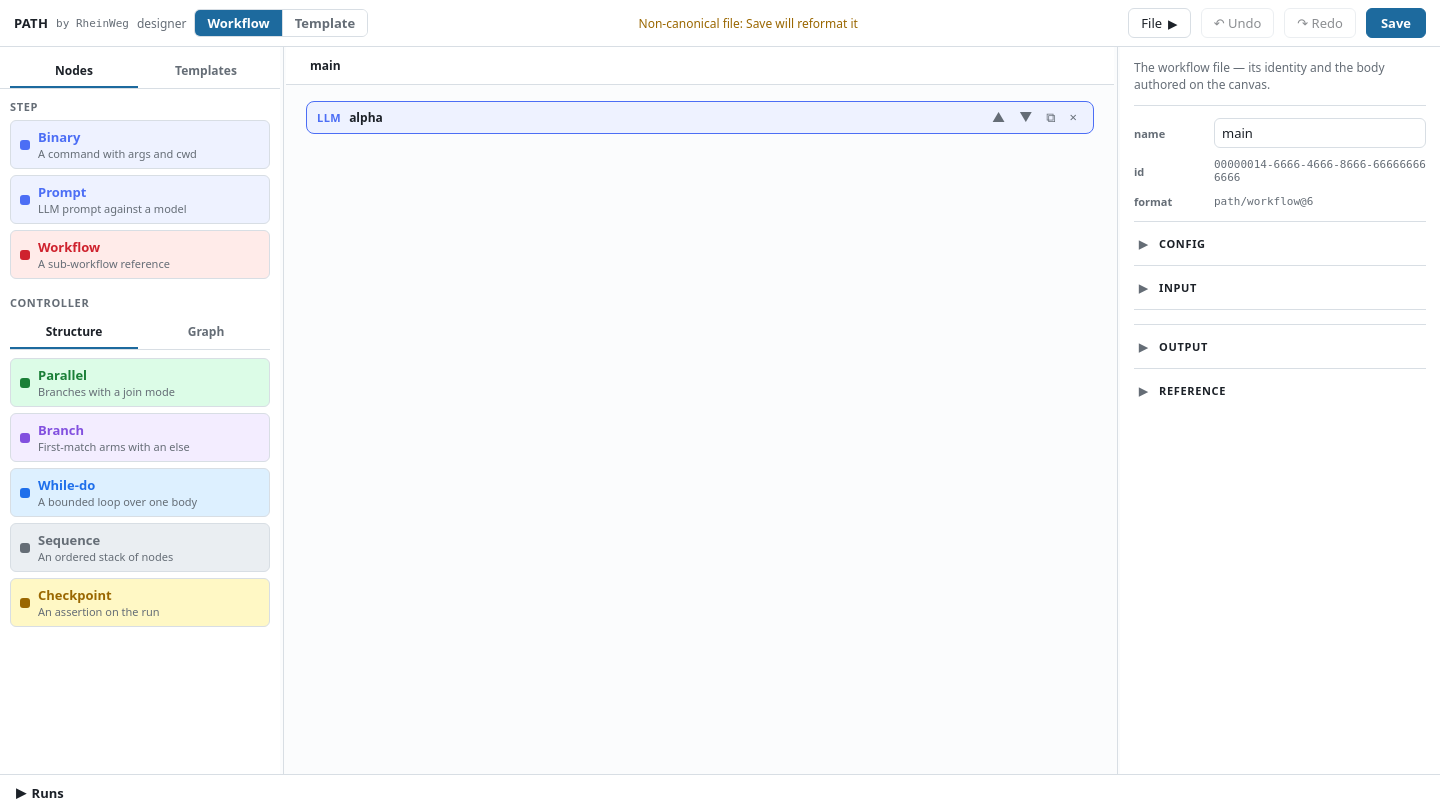
Test: File menu › holds New, Open…, Save as…, Download, Upload… and Delete, and closes on Escape back to File
The image size is (1440, 810).
Check: the text "alpha" is shown, box [349,109,383,126]
Click the button "File ▸": {"x": 1159, "y": 23} [1128,8,1191,38]
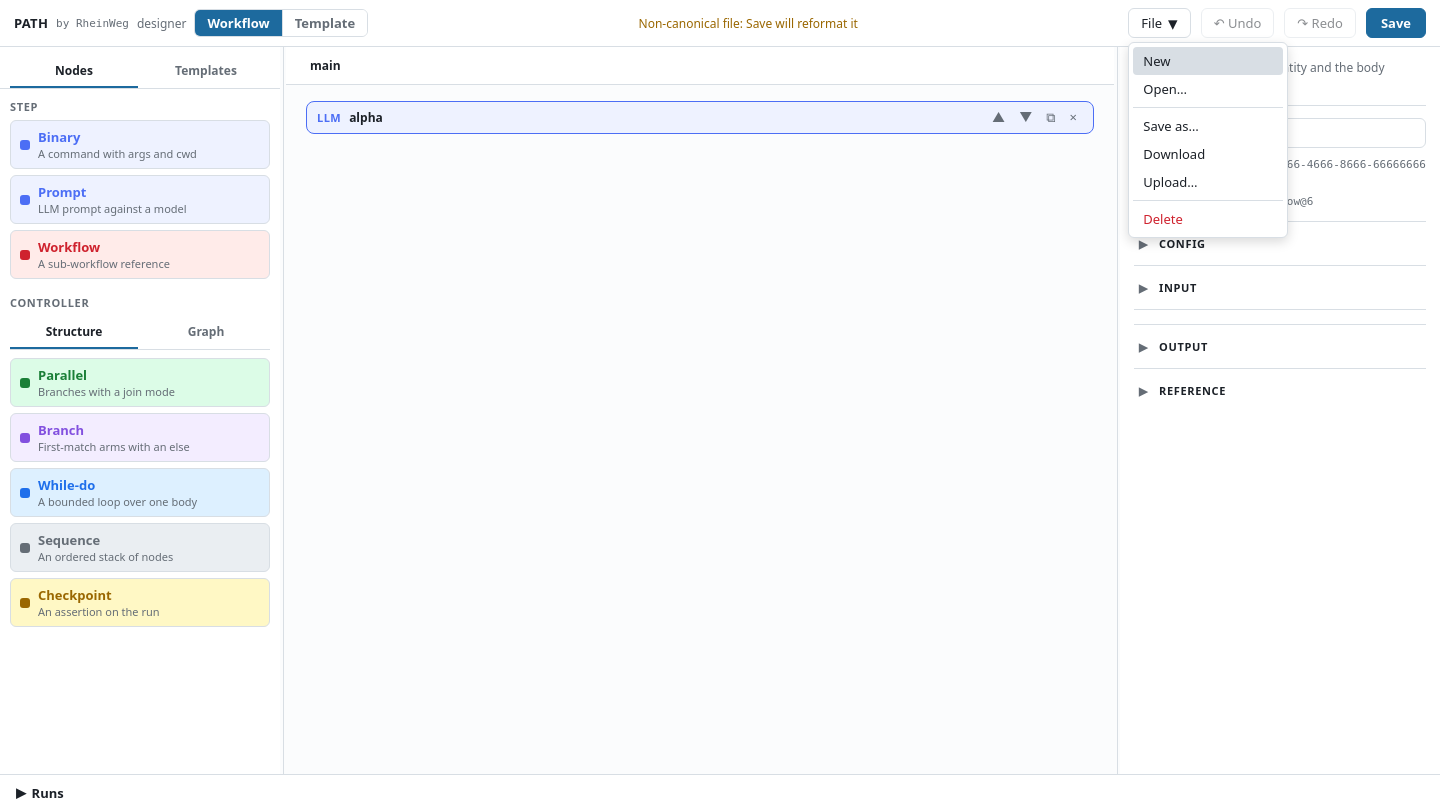
Check: the menu items read "New", "Open…", "Save as…", "Download", "Upload…", "Delete", in this order, box [1133,47,1283,75]; [1133,75,1283,103]; [1133,112,1283,140]; [1133,140,1283,168]; [1133,168,1283,196]; [1133,205,1283,233]
Press ArrowDown in the menu named "File", box [1128,42,1288,238]
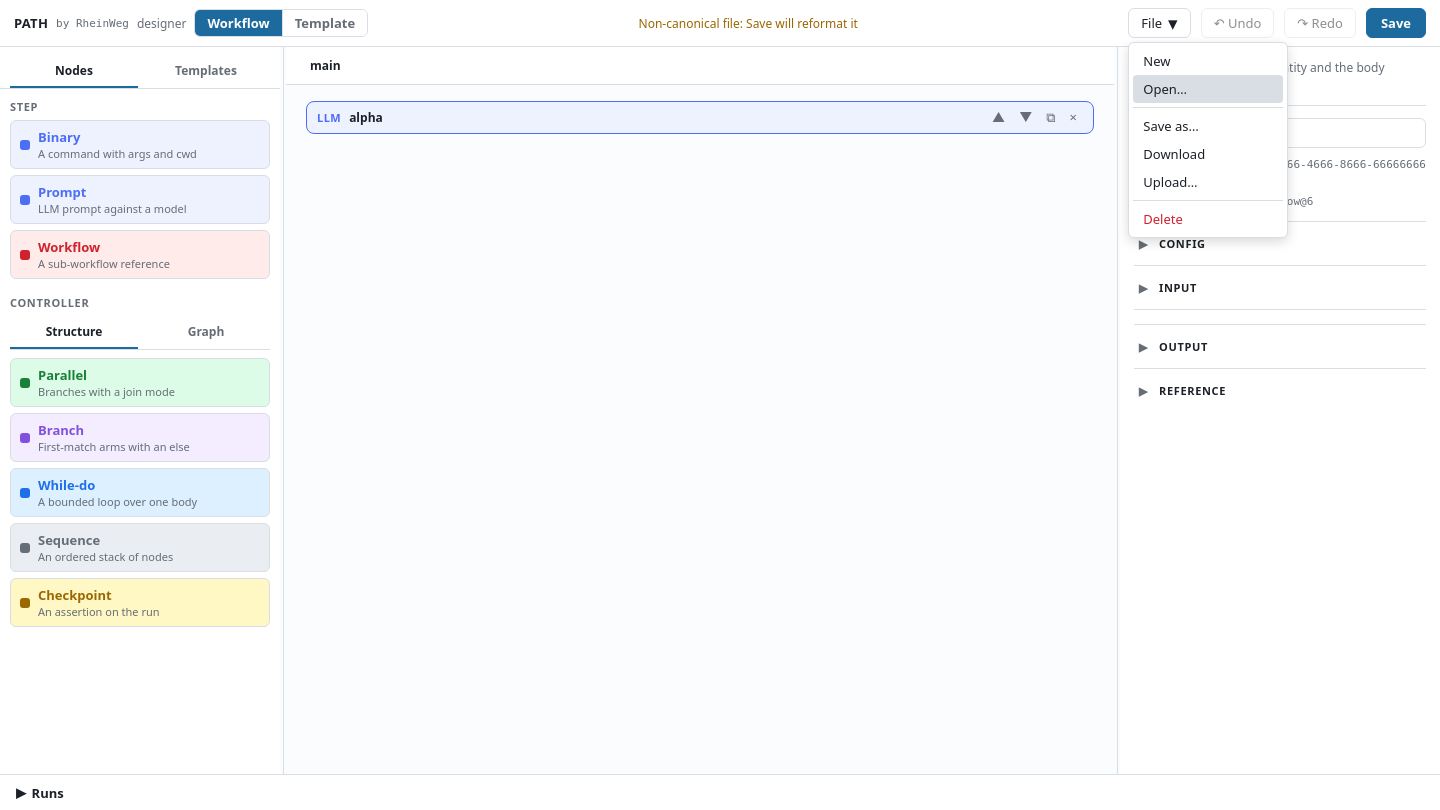
Press ArrowUp in the menu named "File", box [1128,42,1288,238]
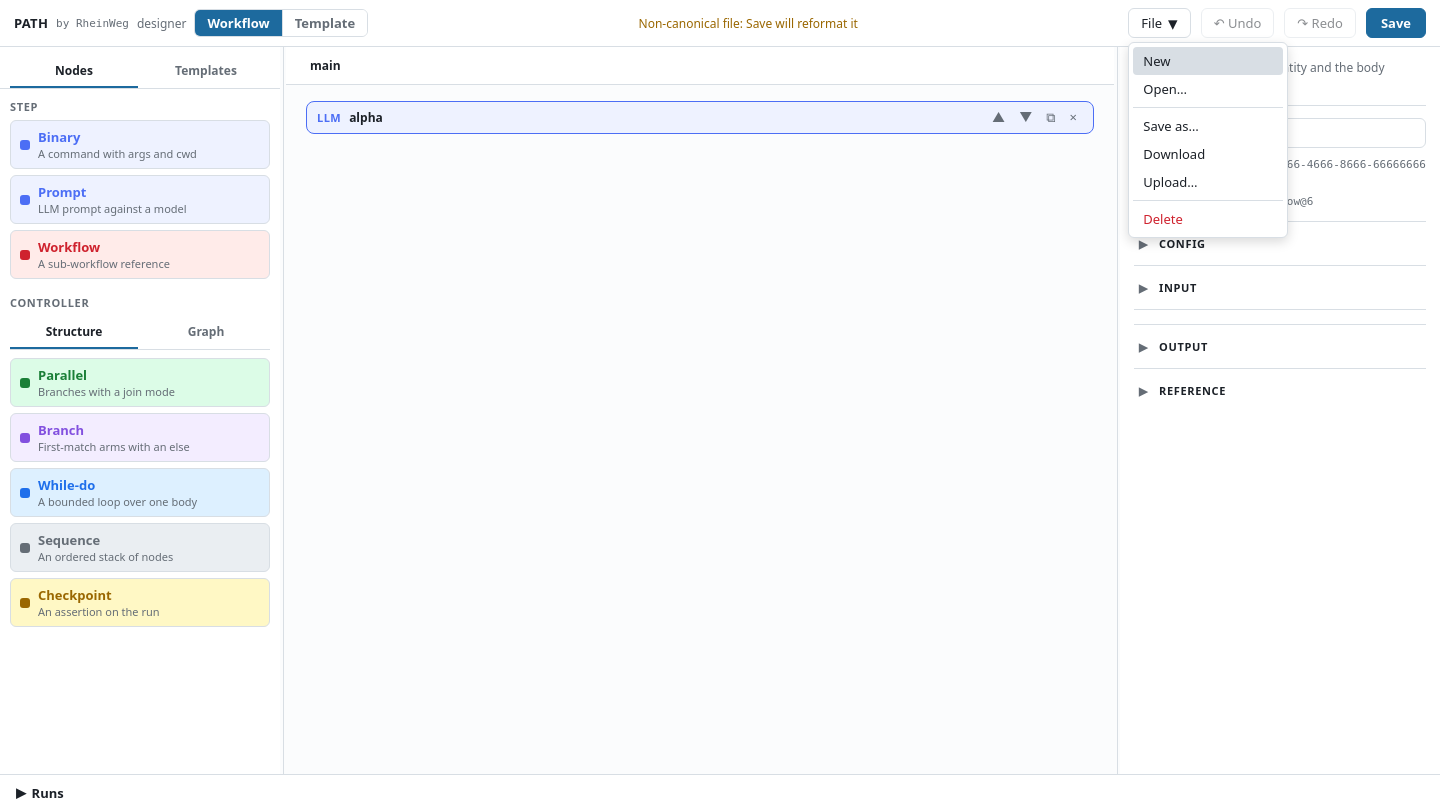
Press ArrowUp in the menu named "File", box [1128,42,1288,238]
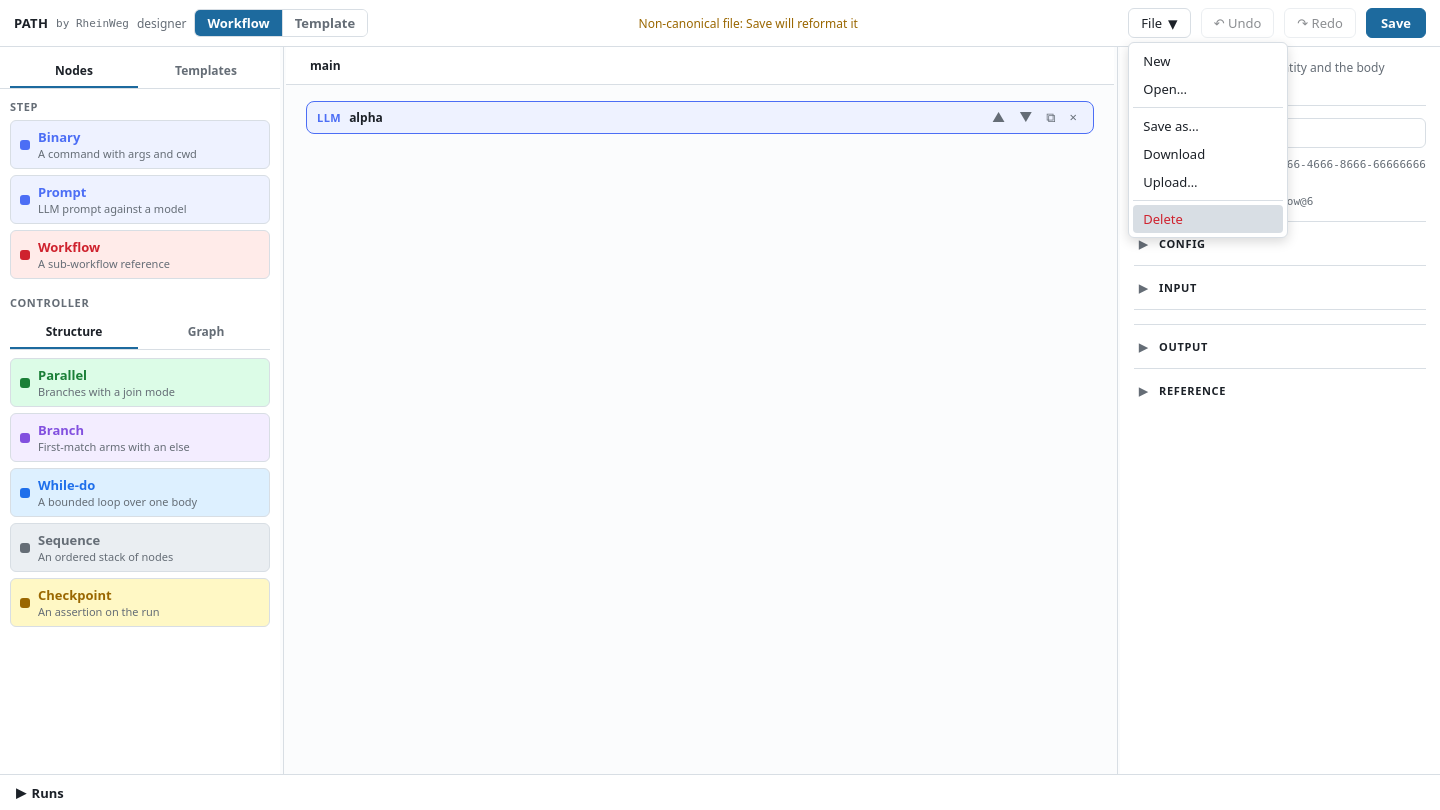
Press Escape in the menu named "File", box [1128,42,1288,238]
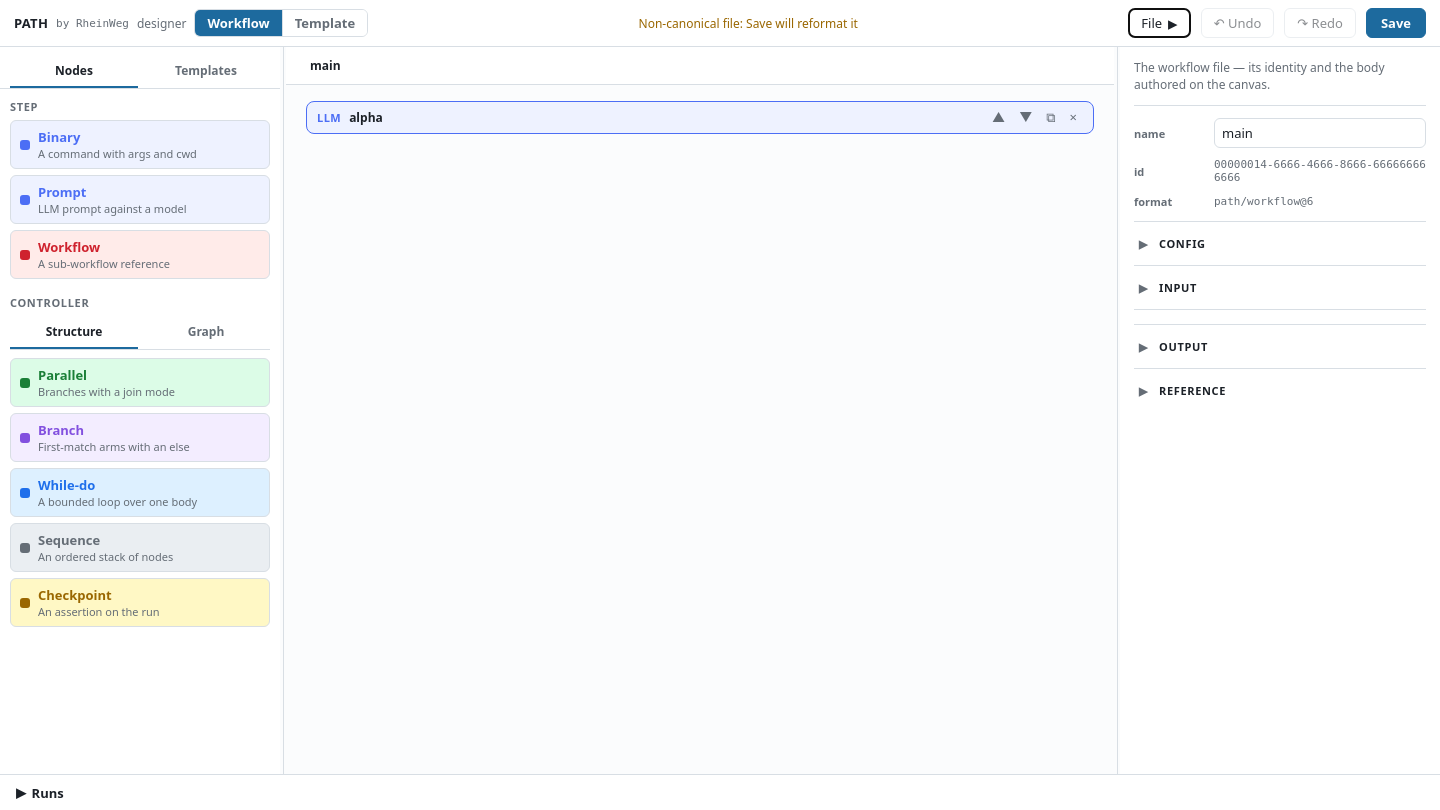
Check: the menu is gone
